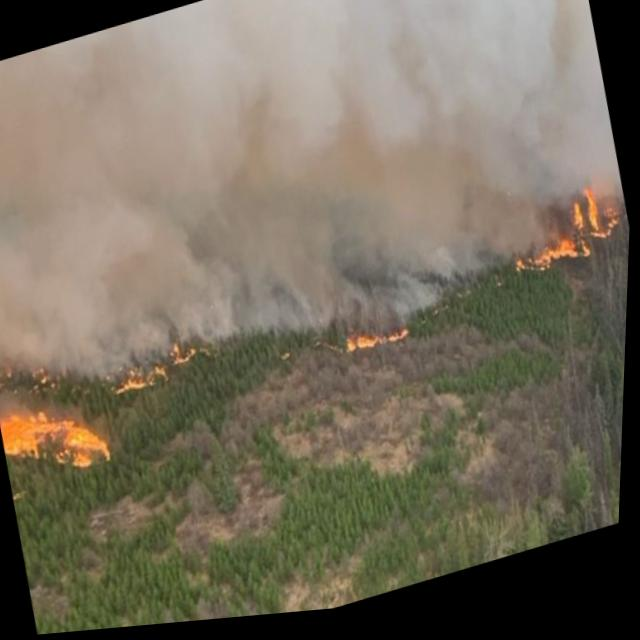Fire: (0, 377, 129, 504), (501, 186, 633, 299), (102, 326, 220, 406), (340, 313, 422, 372)
